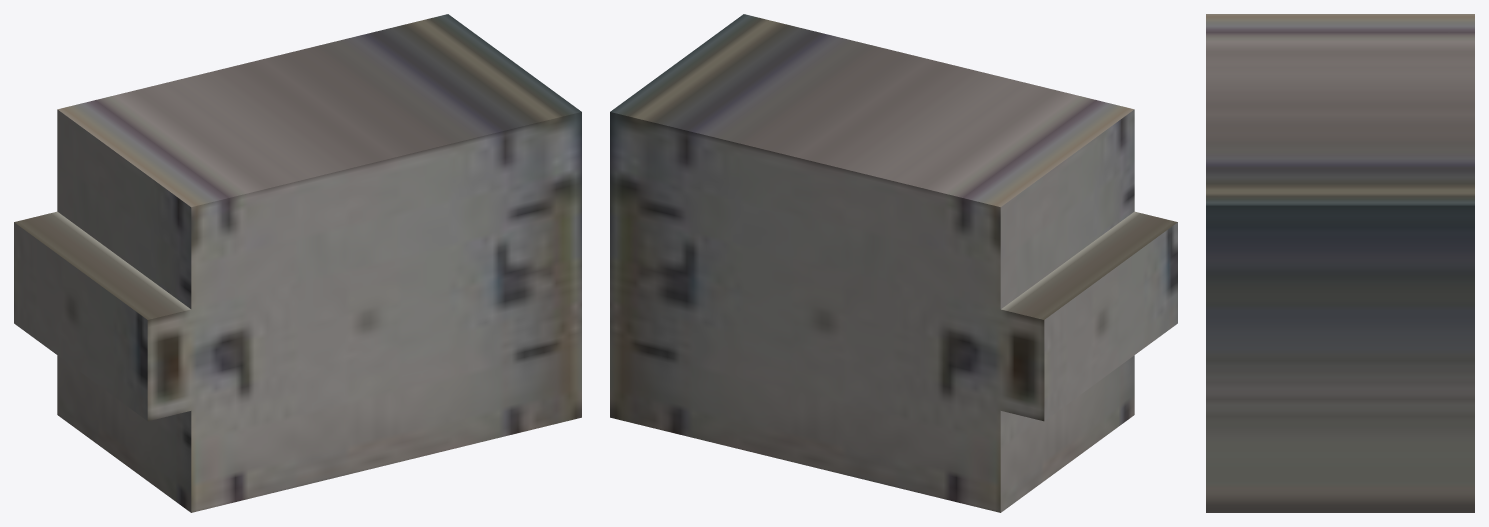
Rendered from s4_truss_23_battery_bottom_right.dae.
The picture shows the model from 3 angles, left to right: view 1: azimuth 30°, elevation 25°; view 2: azimuth 150°, elevation 25°; view 3: azimuth 270°, elevation 25°; orthographic projection.
Visible parts, largest first — view 1: 23 S4 Truss; view 2: 23 S4 Truss; view 3: 23 S4 Truss.
Part boxes in pixels (x1,y1,x2,y2): 23 S4 Truss: (14,14,581,512); 23 S4 Truss: (610,14,1177,512); 23 S4 Truss: (1206,14,1474,512).
Size of the model in its own units: 1.05 by 0.5605 by 0.7068.
Materials: 1 (1 with a texture image).
